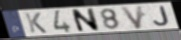4: (53, 9, 74, 34)
8: (100, 8, 122, 31)
J: (153, 5, 171, 27)
K: (24, 12, 49, 34)
N: (70, 7, 101, 33)
V: (119, 5, 145, 30)
